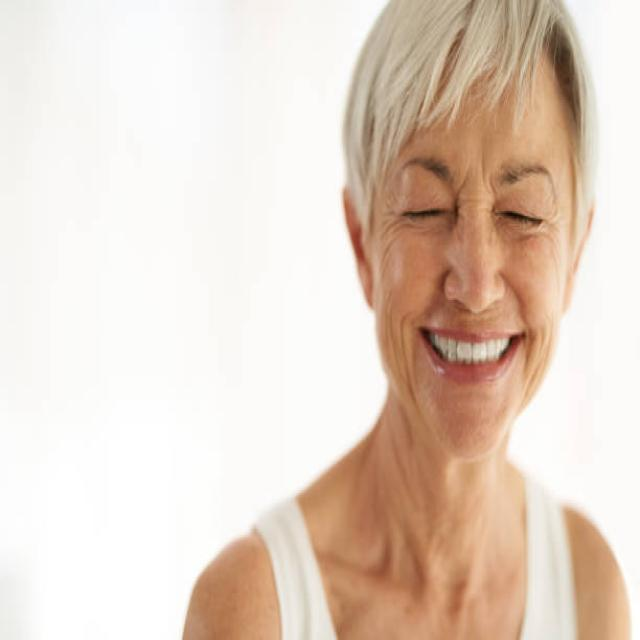Dry-Skin: (372, 186, 420, 357), (523, 226, 571, 393)
